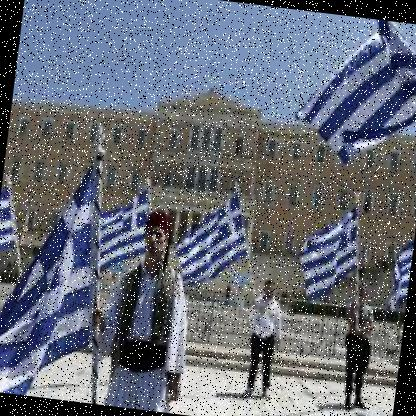gr: (1, 122, 127, 402), (293, 14, 416, 168), (166, 176, 263, 303), (296, 196, 368, 320), (91, 168, 156, 279), (389, 231, 414, 322)
